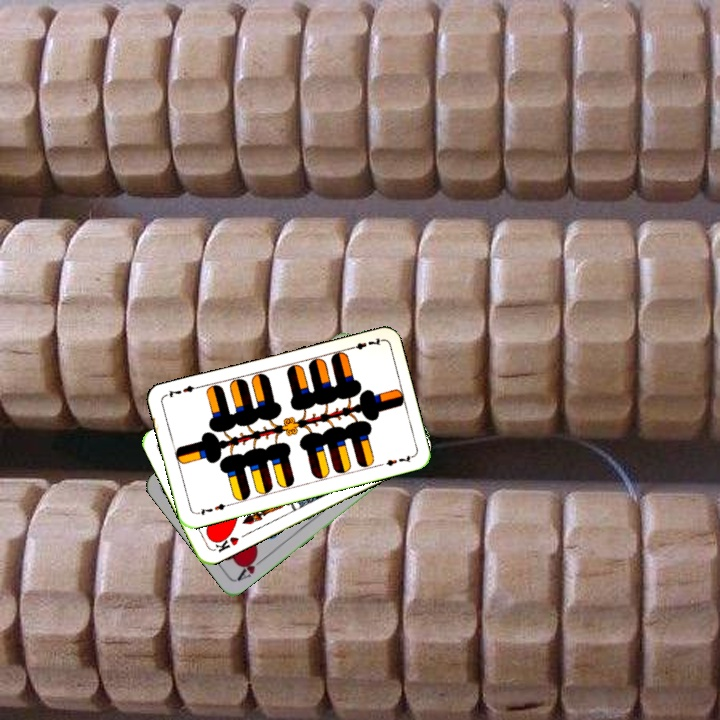E7: (192, 499, 232, 518), (344, 334, 384, 353)
HA: (233, 550, 268, 583)
HK: (209, 529, 241, 555)
